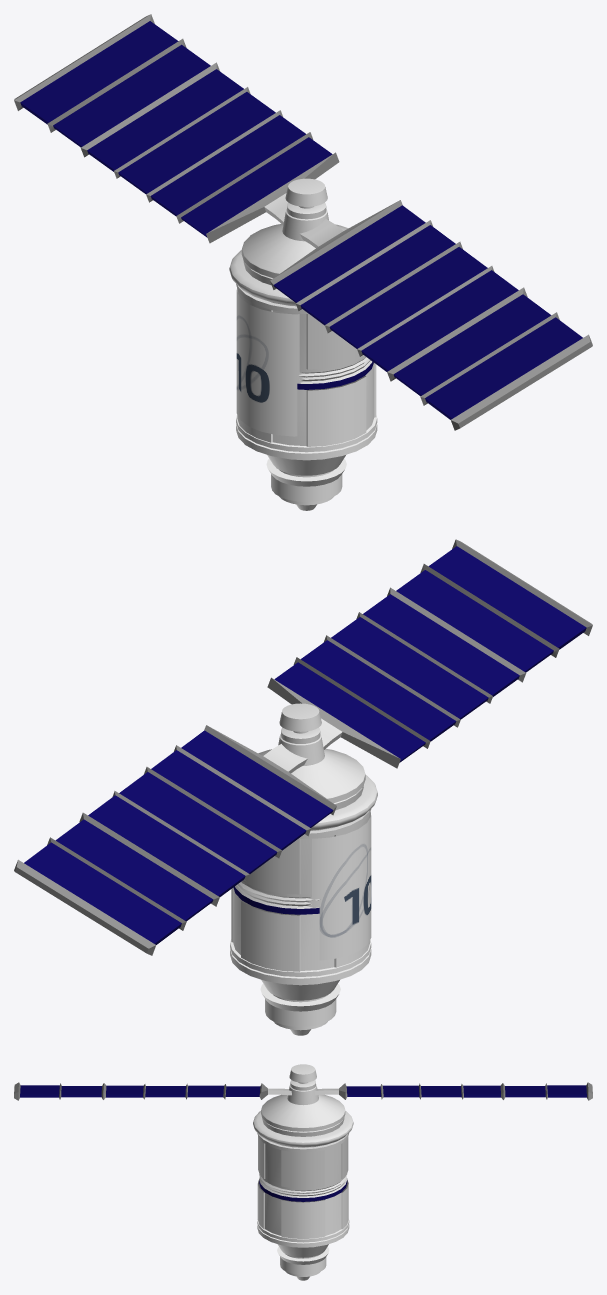
The model's file is 10Orbit Satellite.FBX.
3 views of the same model, one above another, from view 1: azimuth 30°, elevation 25°; view 2: azimuth 150°, elevation 25°; view 3: azimuth 270°, elevation 25° (orthographic). The views are drawn at different scales.
Parts seen in each view (by area): view 1: Cylinder001; view 2: Cylinder001; view 3: Cylinder001.
Boxes of the visible parts, <box> form: Cylinder001: <box>14,14,592,510</box>; Cylinder001: <box>14,539,592,1035</box>; Cylinder001: <box>14,1064,592,1280</box>.
Size of the model in its own units: 96.62 by 209 by 524.
